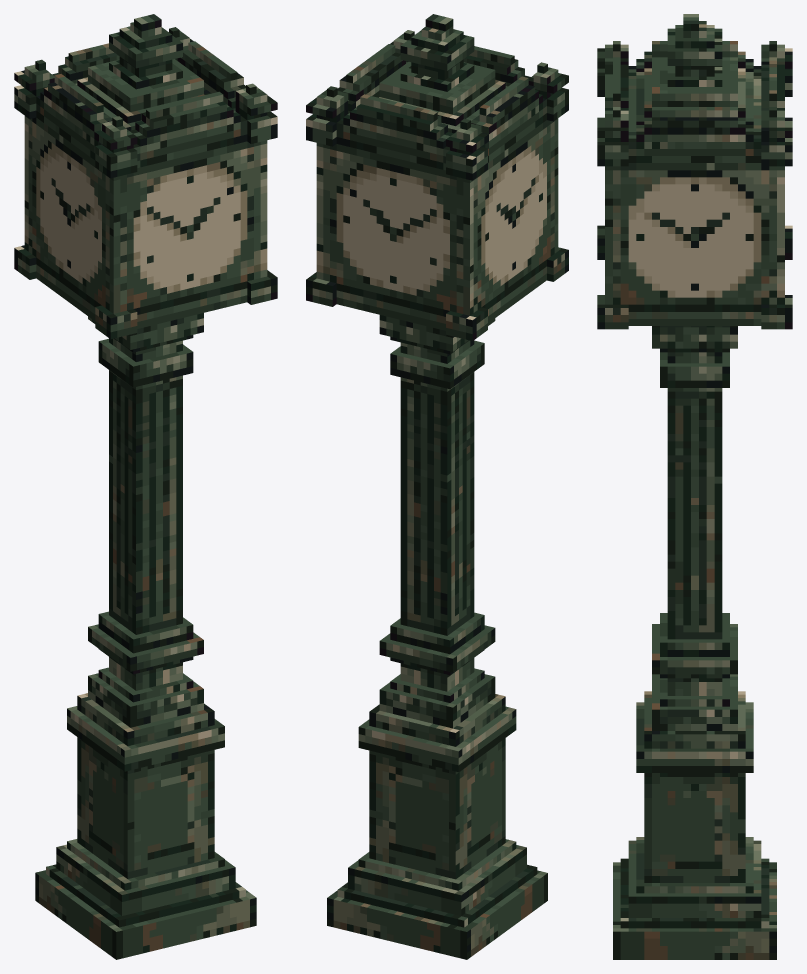
Rendered from city_clock_post.glb.
3 views of the same model, side by side, from view 1: azimuth 30°, elevation 25°; view 2: azimuth 150°, elevation 25°; view 3: azimuth 270°, elevation 25° (orthographic).
Parts seen in each view (by area): view 1: city_clock_post; view 2: city_clock_post; view 3: city_clock_post.
Boxes of the visible parts, x1,y1,x2,y2 form: city_clock_post: (14, 14, 277, 959); city_clock_post: (306, 14, 568, 959); city_clock_post: (597, 14, 792, 959).
Bounding box in the file's own units: 0.7812 × 4 × 0.7812.
